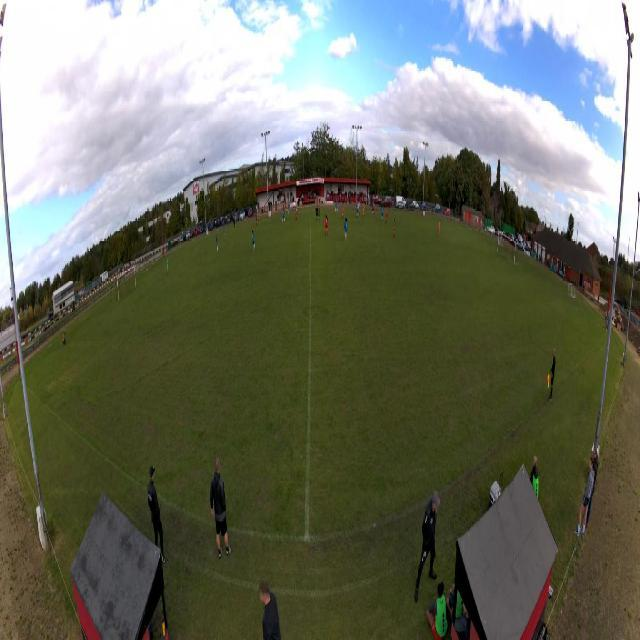player: (324, 213, 328, 238), (344, 217, 348, 242), (252, 228, 256, 252), (315, 205, 319, 223), (281, 206, 285, 223), (341, 203, 345, 220), (166, 256, 169, 275), (216, 235, 219, 253), (356, 202, 359, 219), (438, 219, 441, 236), (295, 205, 298, 221), (363, 202, 366, 218), (381, 206, 384, 221), (393, 218, 395, 239), (335, 200, 338, 212), (386, 206, 388, 223), (373, 200, 375, 216), (223, 223, 225, 238), (256, 212, 258, 227), (288, 200, 290, 214), (359, 201, 361, 215), (371, 202, 373, 216), (316, 199, 318, 208)
